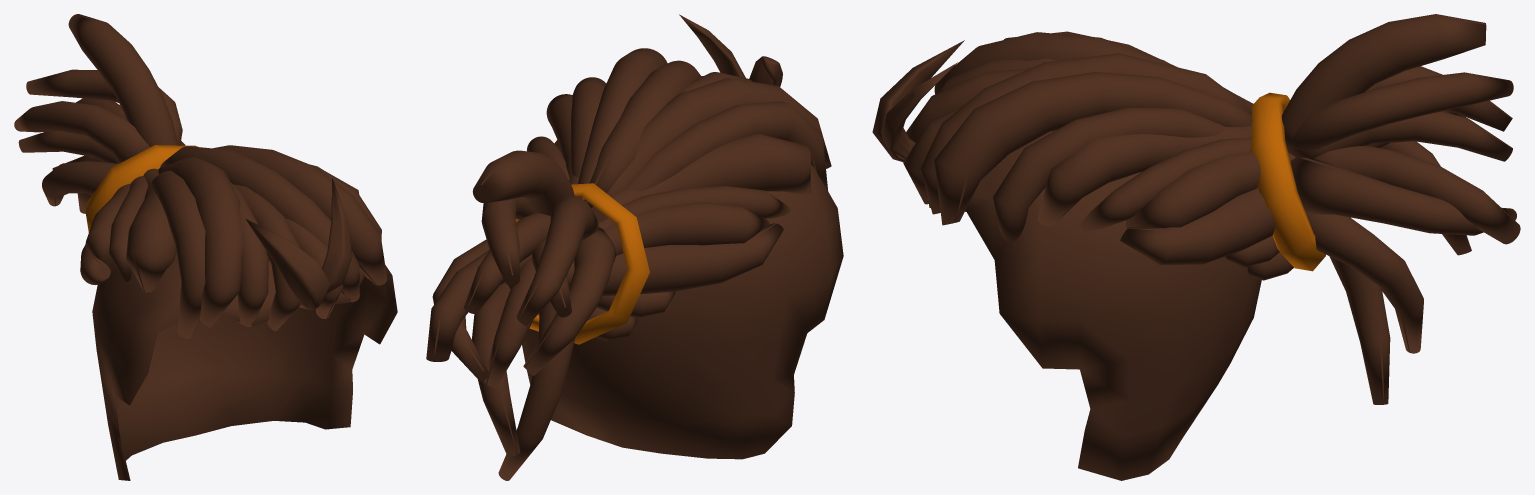
3 views of the same model, side by side, from view 1: azimuth 30°, elevation 25°; view 2: azimuth 150°, elevation 25°; view 3: azimuth 270°, elevation 25° (orthographic). The views are drawn at different scales.
Parts seen in each view (by area): view 1: hairDreadTopback; view 2: hairDreadTopback; view 3: hairDreadTopback.
Boxes of the visible parts, box(x1,y1,x2,y2) form: hairDreadTopback: box(14, 14, 397, 480); hairDreadTopback: box(426, 14, 843, 480); hairDreadTopback: box(872, 14, 1520, 480).
Bounding box in the file's own units: 0.4573 × 0.5635 × 0.8126.
1 material, 1 textured.
